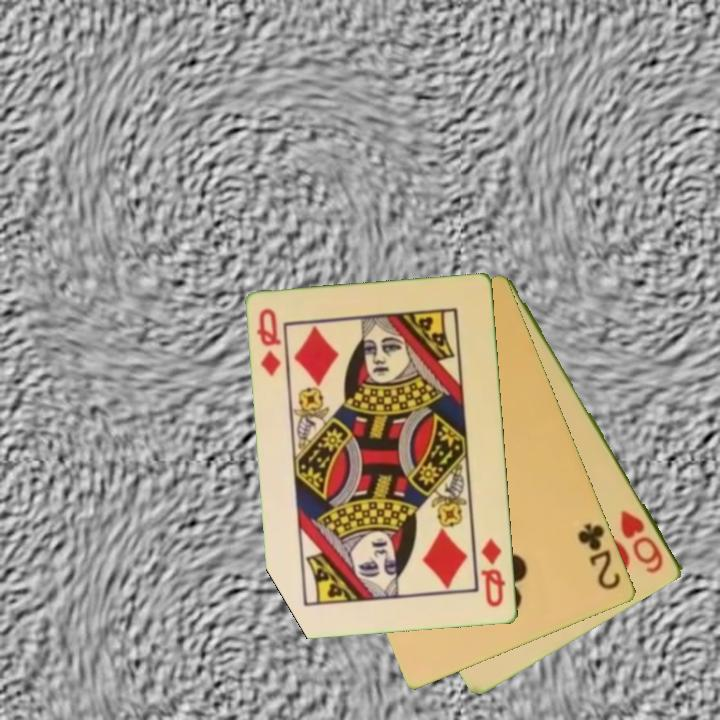2c: (574, 519, 625, 593)
6h: (617, 506, 667, 577)
Qd: (478, 535, 509, 611), (254, 305, 285, 379)
